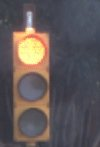Red: (8, 21, 51, 142)
